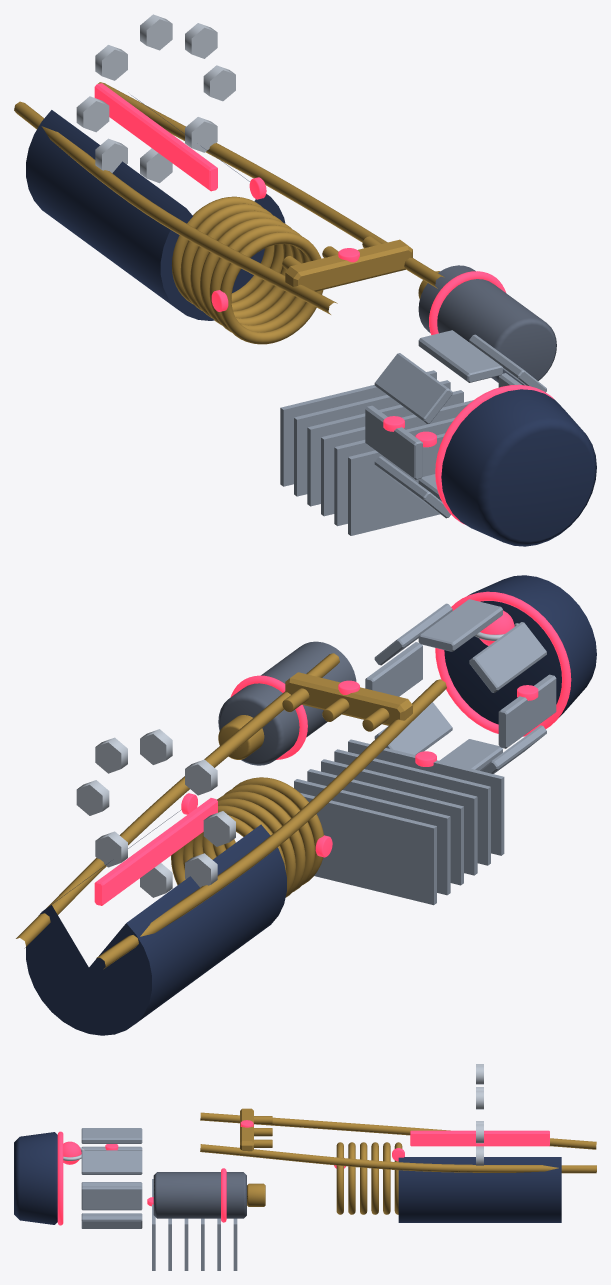
The model's file is tower_filament_ramp_s10.glb.
3 renders of one model, top to bottom at view 1: azimuth 30°, elevation 25°; view 2: azimuth 150°, elevation 25°; view 3: azimuth 270°, elevation 25°, orthographic. The views are drawn at different scales.
Parts seen in each view (by area): view 1: filament_turbine_housing, filament_radiator_b, filament_heat_shroud, filament_accumulator, filament_shroud_bolts, filament_heat_pipe_r, filament_heat_pipe_l, filament_manifold, filament_shroud_glow, filament_coil_sleeve0, filament_breech_fin1, filament_breech_fin2 (+10 smaller); view 2: filament_radiator_b, filament_heat_shroud, filament_turbine_housing, filament_shroud_bolts, filament_heat_pipe_r, filament_accumulator, filament_heat_pipe_l, filament_shroud_glow, filament_turbine_glow, filament_manifold, filament_breech_fin1, filament_breech_fin2 (+14 smaller); view 3: filament_heat_shroud, filament_accumulator, filament_turbine_housing, filament_heat_pipe_l, filament_shroud_glow, filament_heat_pipe_r, filament_breech_fin3, filament_breech_fin4, filament_radiator_b, filament_breech_fin2, filament_breech_fin5, filament_shroud_bolts (+10 smaller).
Boxes of the visible parts, x1,y1,x2,y2 form: filament_turbine_housing: [441, 389, 596, 546]; filament_radiator_b: [280, 370, 473, 535]; filament_heat_shroud: [26, 95, 285, 320]; filament_accumulator: [418, 265, 556, 385]; filament_shroud_bolts: [76, 14, 235, 183]; filament_heat_pipe_r: [14, 101, 337, 314]; filament_heat_pipe_l: [98, 82, 444, 288]; filament_manifold: [285, 239, 412, 291]; filament_shroud_glow: [94, 83, 217, 191]; filament_coil_sleeve0: [220, 232, 323, 344]; filament_breech_fin1: [374, 353, 452, 423]; filament_breech_fin2: [418, 330, 502, 382]; filament_radiator_b: [294, 739, 504, 905]; filament_heat_shroud: [26, 810, 286, 1035]; filament_turbine_housing: [444, 575, 596, 724]; filament_shroud_bolts: [76, 729, 235, 897]; filament_heat_pipe_r: [96, 679, 446, 969]; filament_accumulator: [218, 641, 356, 765]; filament_heat_pipe_l: [16, 653, 339, 948]; filament_shroud_glow: [94, 798, 217, 905]; filament_turbine_glow: [435, 591, 571, 736]; filament_manifold: [285, 672, 412, 725]; filament_breech_fin1: [469, 622, 546, 692]; filament_breech_fin2: [418, 599, 502, 651]; filament_heat_shroud: [398, 1157, 561, 1222]; filament_accumulator: [153, 1172, 246, 1218]; filament_turbine_housing: [14, 1132, 57, 1224]; filament_heat_pipe_l: [200, 1144, 596, 1173]; filament_shroud_glow: [410, 1130, 549, 1146]; filament_heat_pipe_r: [200, 1112, 596, 1149]; filament_breech_fin3: [81, 1150, 142, 1174]; filament_breech_fin4: [81, 1186, 142, 1210]; filament_radiator_b: [152, 1179, 237, 1270]; filament_breech_fin2: [81, 1128, 142, 1143]; filament_breech_fin5: [81, 1215, 142, 1228]; filament_shroud_bolts: [476, 1064, 483, 1165].
Size of the model in its own units: 0.647 by 0.865 by 2.5.
